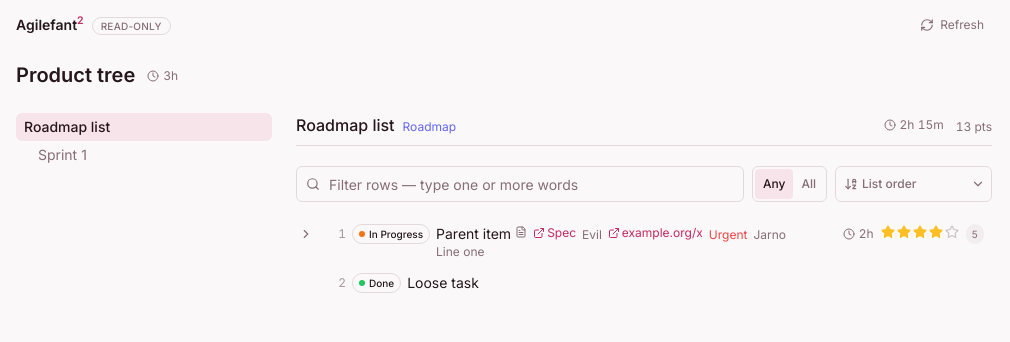
Test: public list page: stars › shows nothing for an unrated item, rather than five empty stars
The image size is (1010, 342).
expect the text "Parent item" is shown: met, box 436,224 -> 511,244
Click the button named "Expand": (306, 234) 296,224 -> 316,244
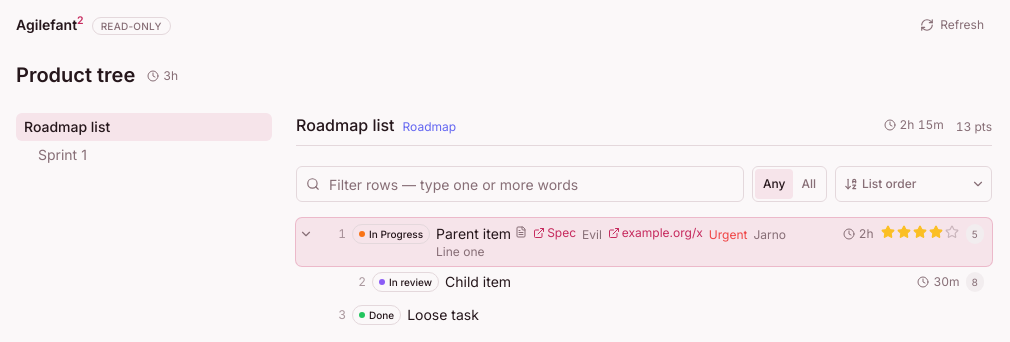
expect the text "Child item" is shown: met, box 445,272 -> 511,292
